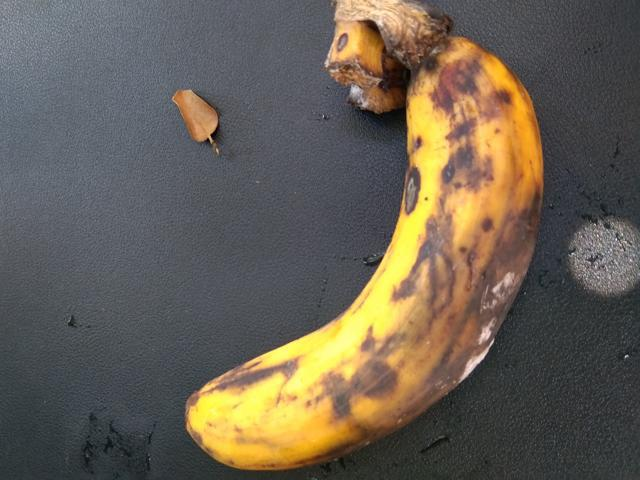overripe: (149, 45, 546, 479)
rotten: (336, 159, 558, 456)
